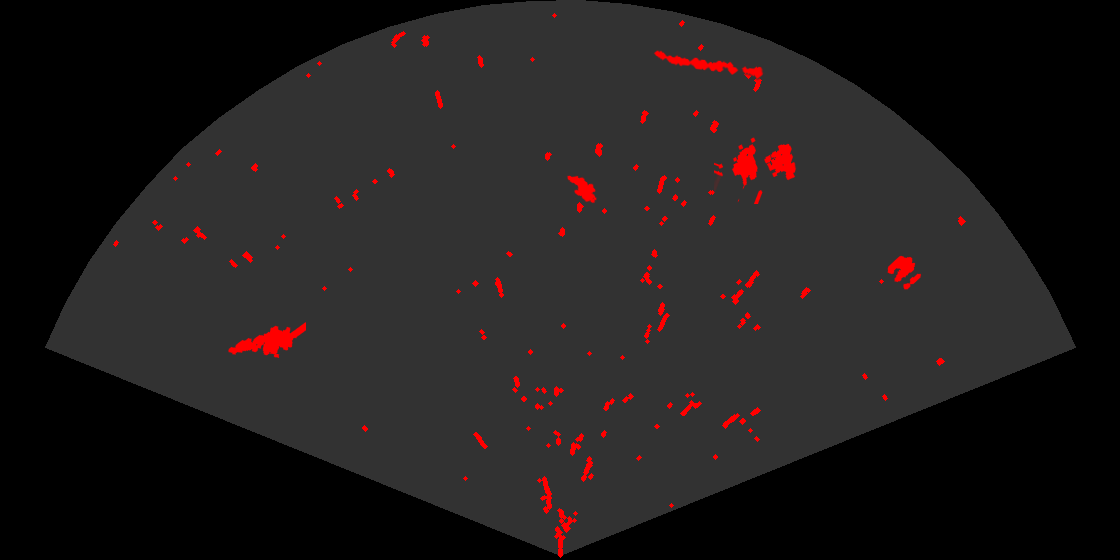AUV: (565, 174, 598, 205)
ball: (886, 254, 923, 291)
cage: (714, 136, 798, 204)
chain: (652, 49, 765, 81)
frogman: (227, 321, 306, 360)
